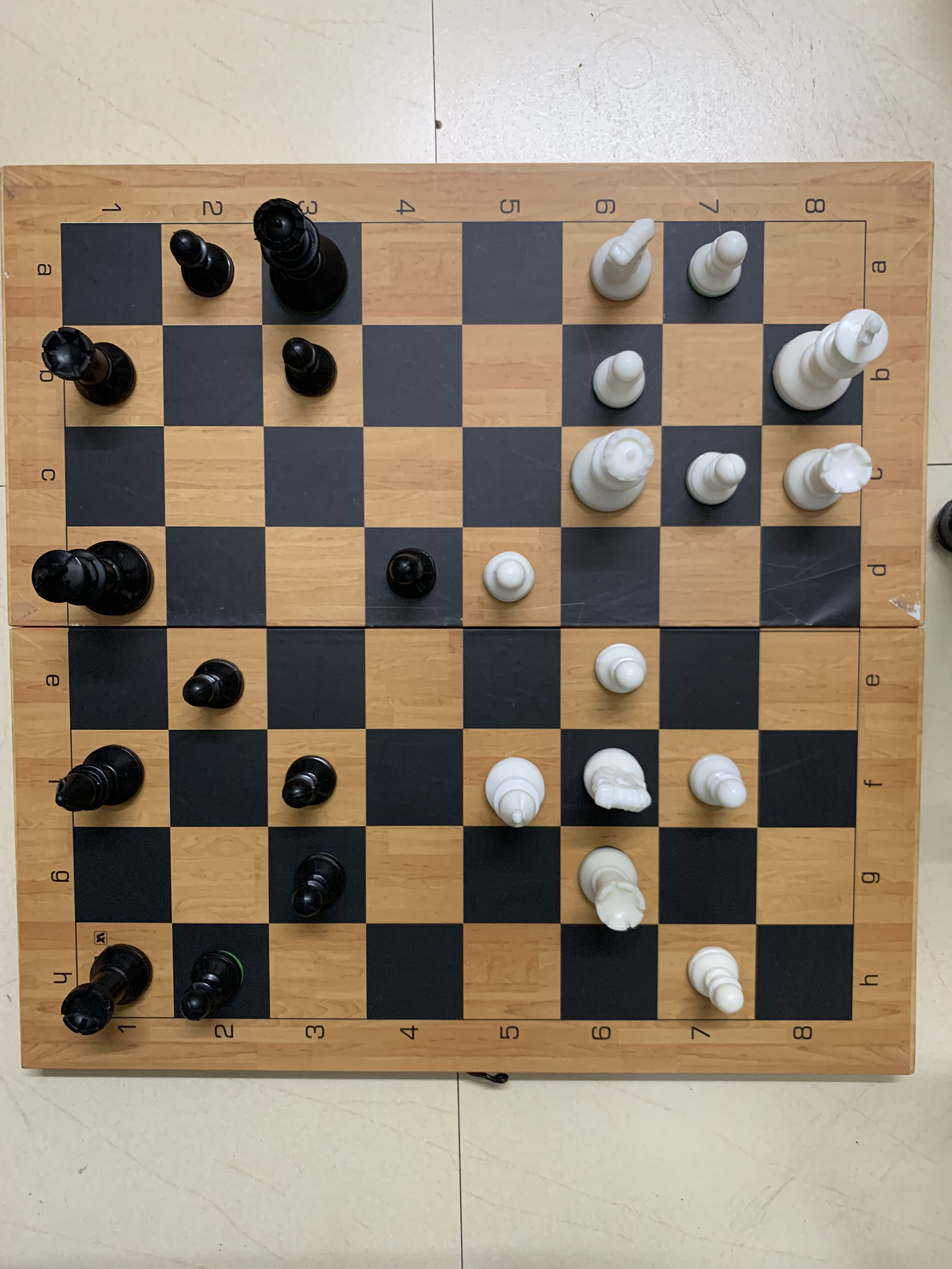black_bishop: (52, 737, 151, 817)
black_king: (28, 534, 158, 623)
black_pawn: (161, 224, 244, 306), (177, 942, 253, 1030), (276, 840, 350, 919), (276, 331, 346, 401), (181, 656, 254, 718), (381, 546, 445, 606), (280, 753, 340, 812)
black_queen: (245, 196, 351, 318)
black_rook: (49, 939, 158, 1044), (36, 321, 144, 416)
white_bishop: (475, 751, 552, 837)
white_king: (766, 304, 889, 417)
white_knight: (582, 213, 664, 304), (577, 740, 658, 827)
white_pawn: (675, 943, 751, 1024), (686, 221, 756, 306), (585, 639, 667, 703), (683, 746, 757, 816), (681, 445, 749, 510), (586, 344, 653, 408), (478, 546, 544, 610)
white_queen: (561, 424, 661, 517)
white_rook: (771, 444, 893, 525), (578, 844, 656, 938)
